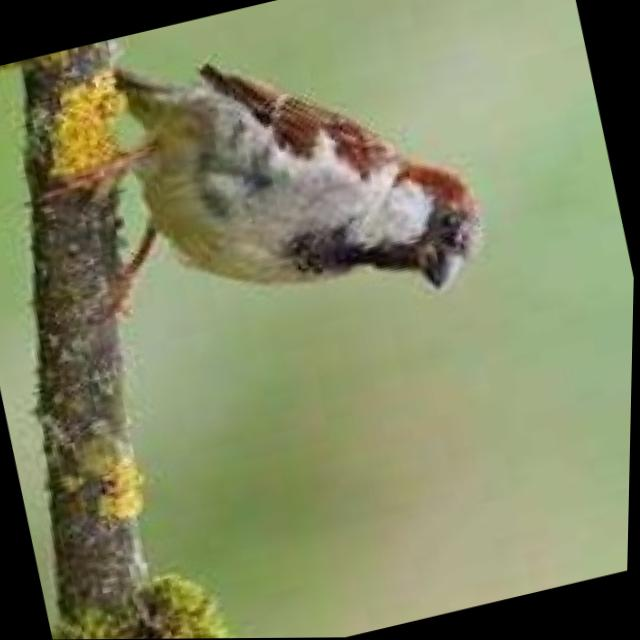sparrow: (5, 0, 507, 380)
